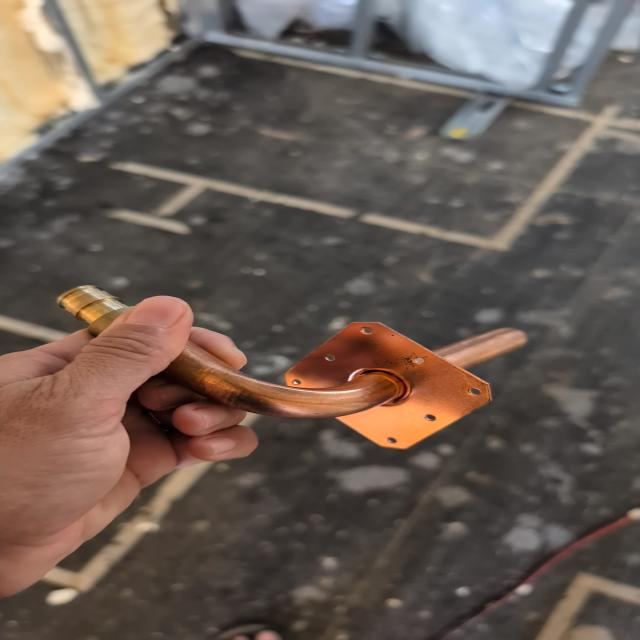wall_flange: (55, 274, 541, 458)
